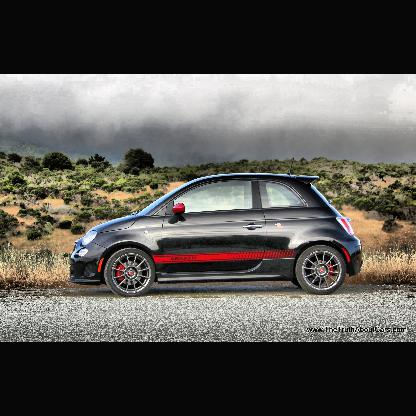FIAT 500 Abarth 2012: (67, 156, 366, 297)
